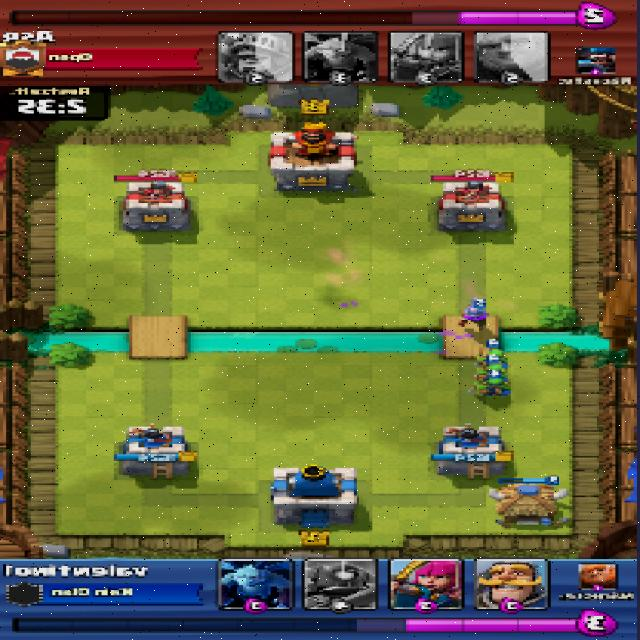Player-GoblinHut: (483, 484, 569, 530)
Player-Musketeer: (458, 304, 493, 330)
Player-SpearGoblin: (475, 363, 511, 381), (478, 379, 511, 398), (479, 348, 508, 367)
